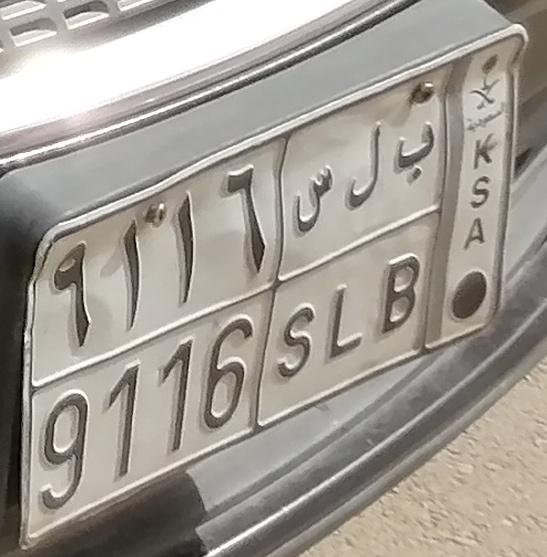1: (153, 187, 201, 456), (103, 217, 151, 481)
6: (201, 158, 268, 439)
9: (36, 237, 96, 516)
B: (382, 122, 437, 338)
L: (329, 122, 381, 368)
S: (277, 162, 331, 383)
